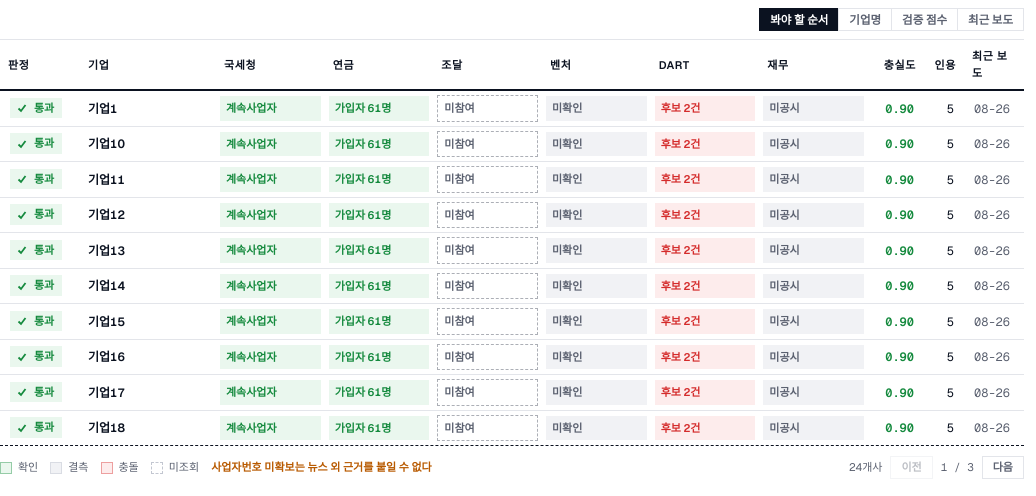
Test: CompanyPipelineGrid › holds the block at a constant height so paging does not resize the table
Step 1. Click the button "다음" → {"x": 1003, "y": 468}, box x1=982 y1=456 x2=1024 y2=479
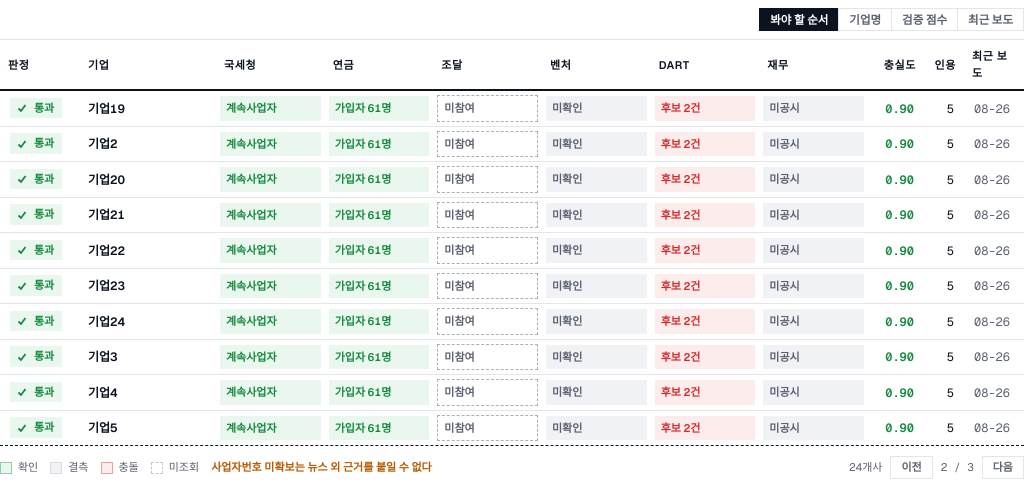
Step 2. Click the button "다음" → {"x": 1003, "y": 468}, box x1=982 y1=456 x2=1024 y2=479
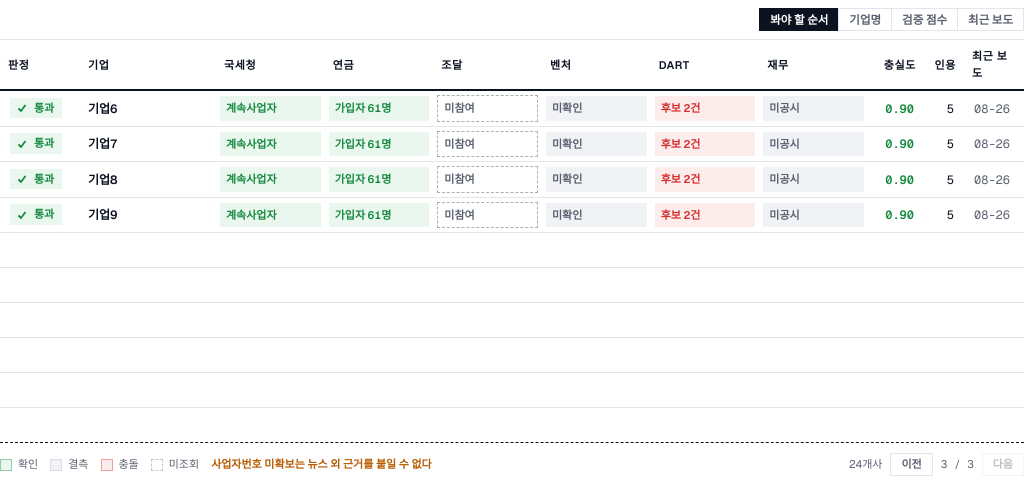
Result: the text "3 / 3" is shown at x1=941 y1=456 x2=974 y2=473
